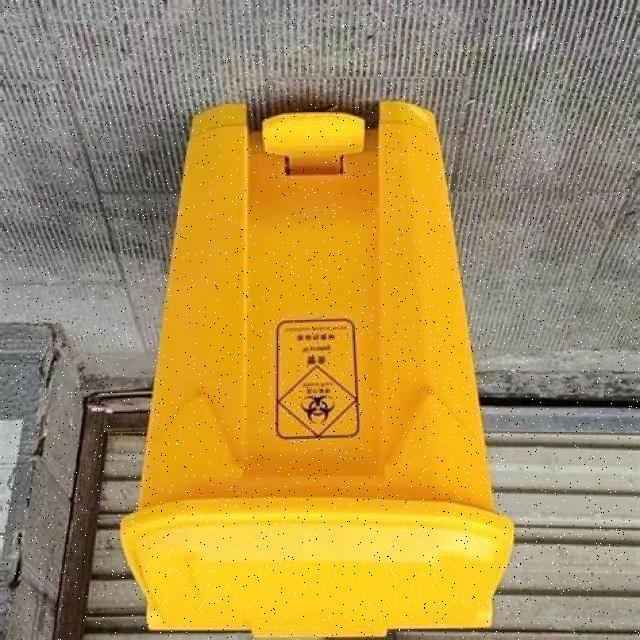garbage container: (114, 75, 543, 635)
